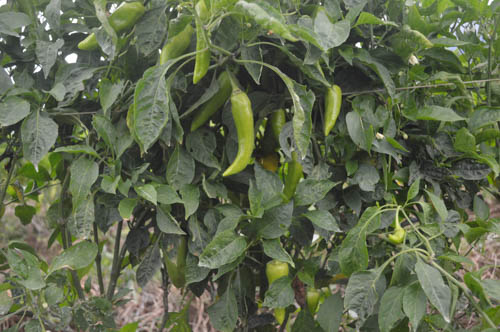ChiliPepper: (75, 4, 143, 57), (219, 96, 254, 179), (189, 76, 232, 129), (264, 260, 290, 323), (189, 23, 210, 88), (163, 235, 187, 288), (157, 28, 188, 66), (321, 86, 342, 136), (268, 110, 284, 143)
